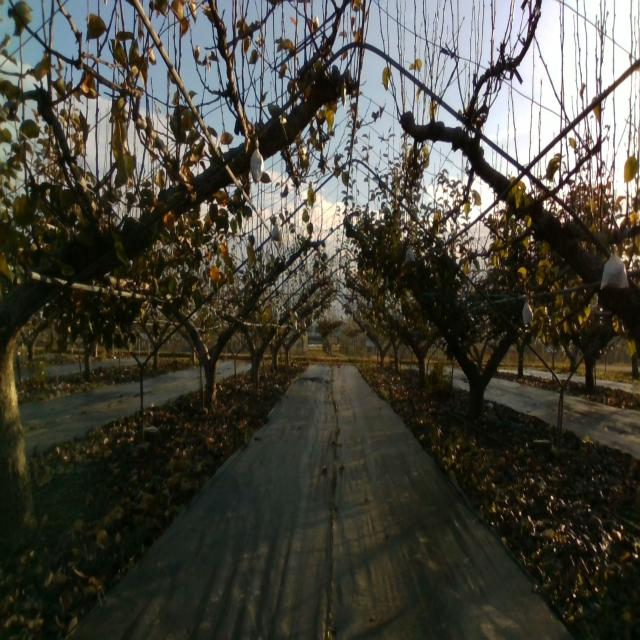pearbags: (600, 246, 630, 291), (250, 140, 264, 185), (522, 300, 534, 325), (270, 223, 282, 243)
